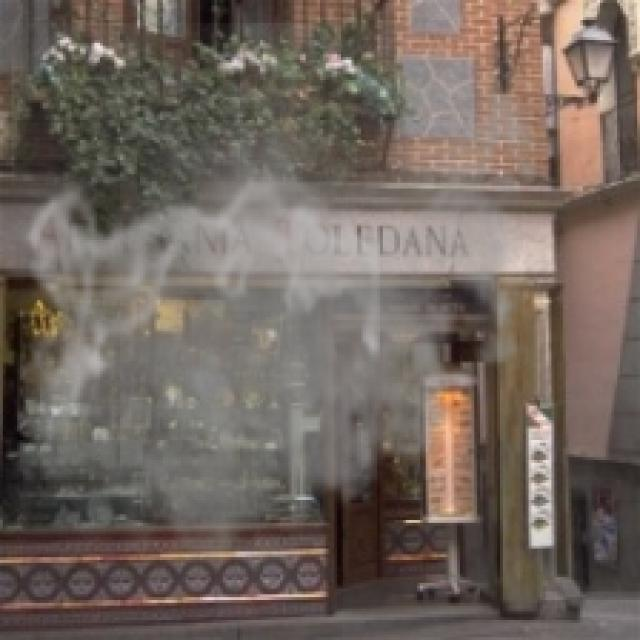Smoke: (11, 23, 558, 583)
